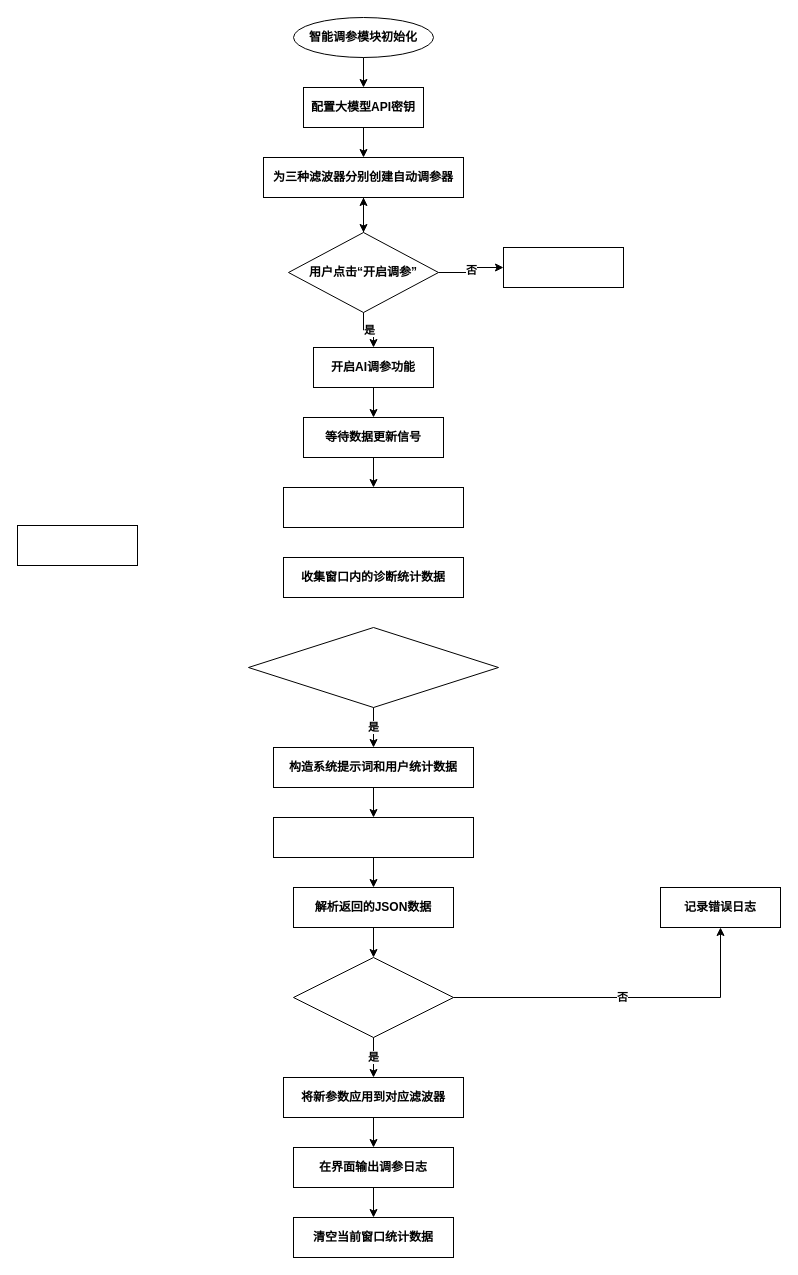
Image size: 798x1275. Some labels were removed from this diagram. Here are the shapes that lost their labels. From the top down, the box of each, then its label:
(502, 246, 624, 288): AI调参关闭
(282, 486, 464, 528): 将原始值与滤波值喂入调参器
(16, 524, 138, 566): 继续积累数据
(248, 626, 498, 708): 样本数足够且距离上次调参超过冷却时间？
(272, 816, 474, 858): 调用大模型API获取参数建议
(292, 956, 454, 1038): 参数建议有效？
